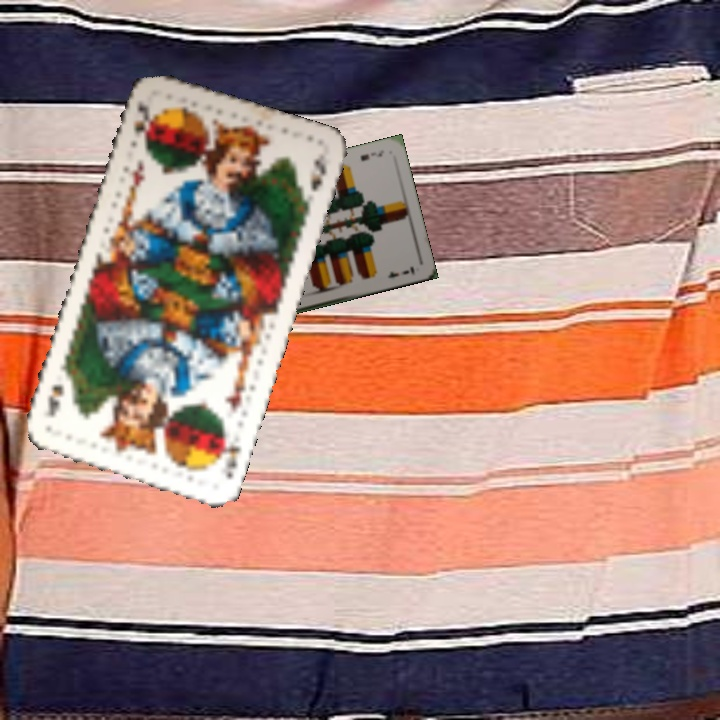E7: (356, 146, 387, 163)
SK: (211, 429, 244, 481), (126, 99, 157, 151)
